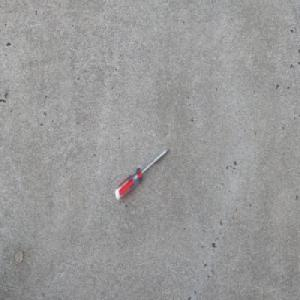Screwdriver: (114, 146, 170, 201)
